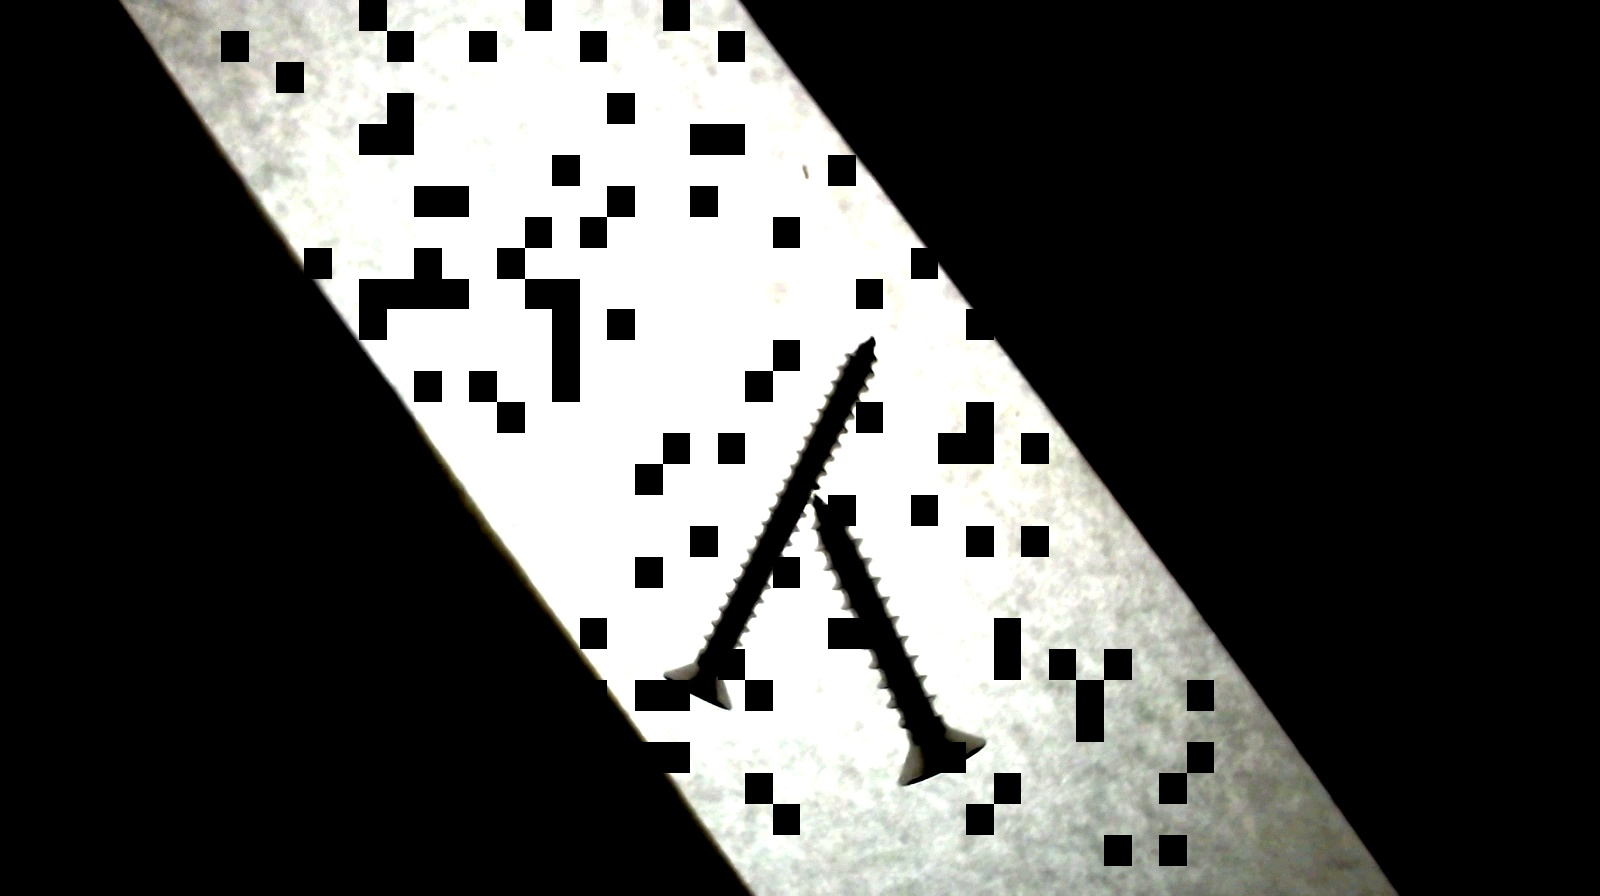S001: (805, 498, 987, 790)
S002: (657, 335, 881, 716)
